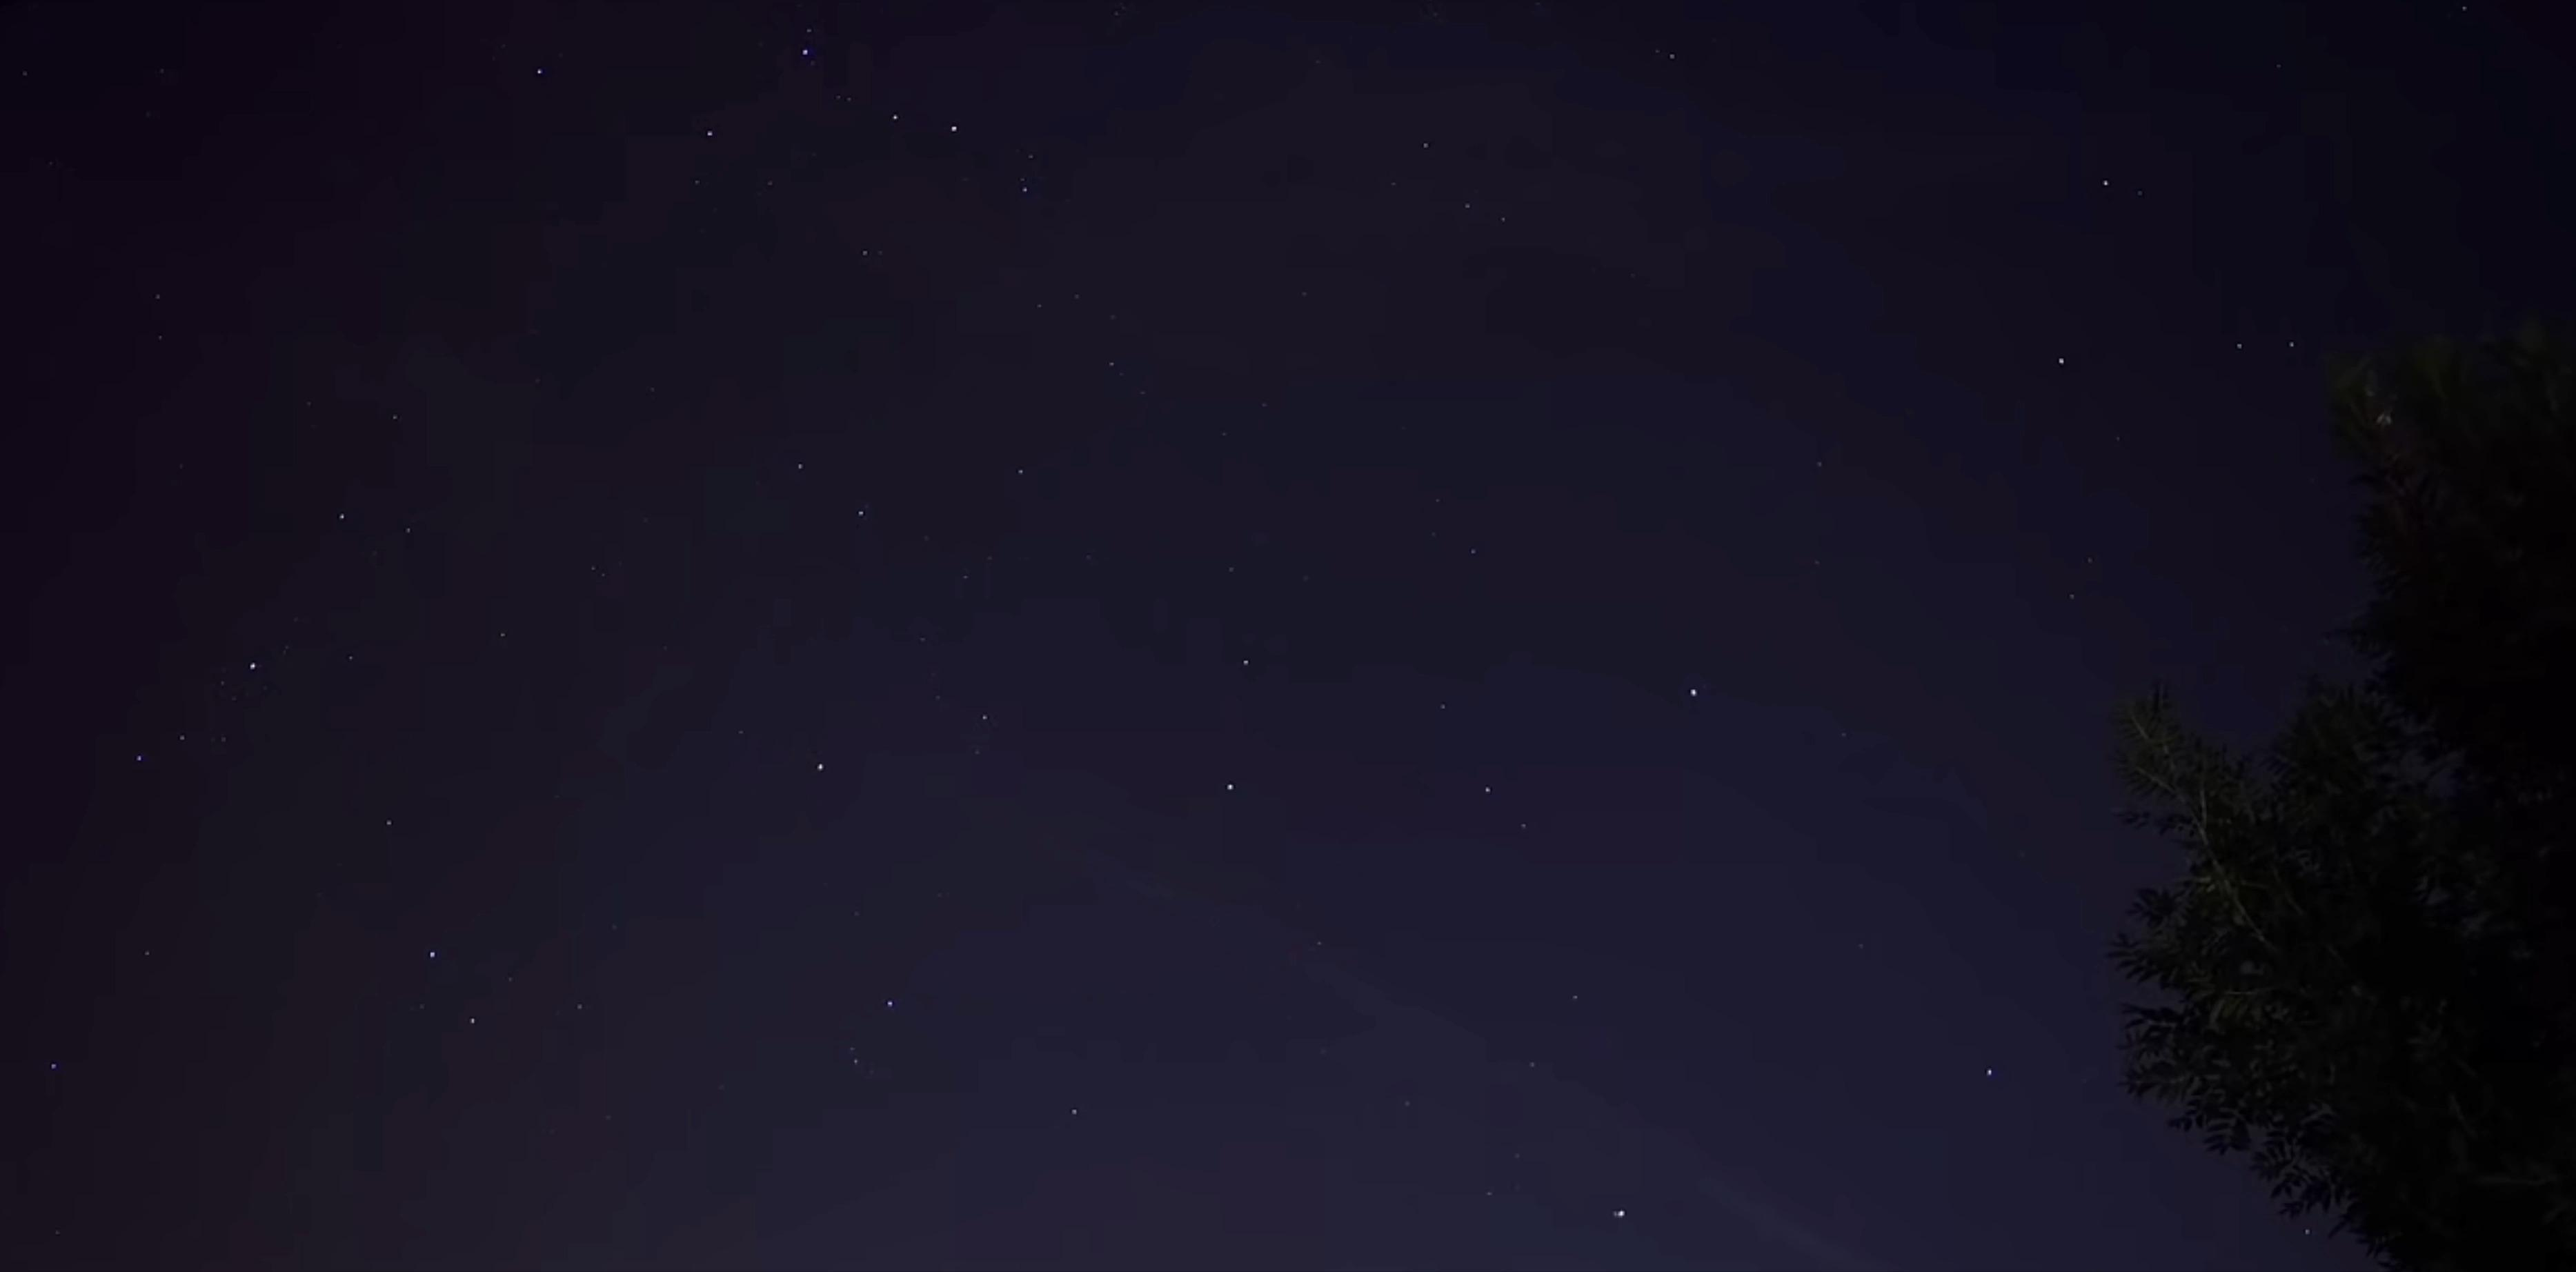Plane: (1603, 1191, 1641, 1231)
